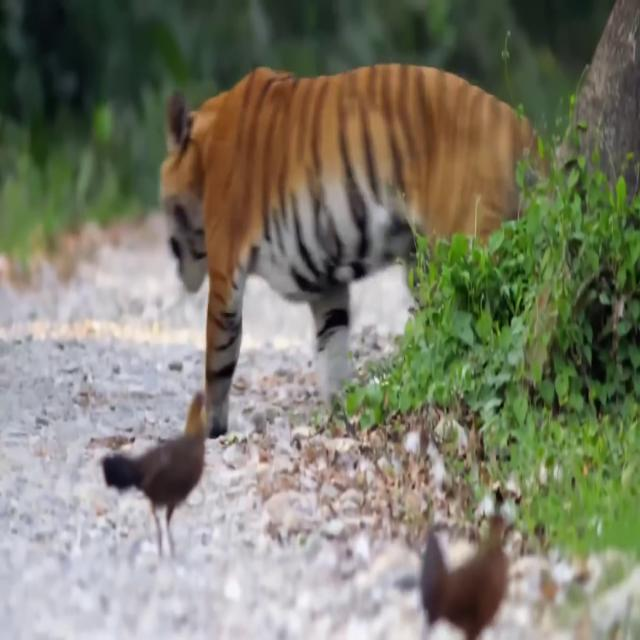tiger: (158, 66, 550, 440)
